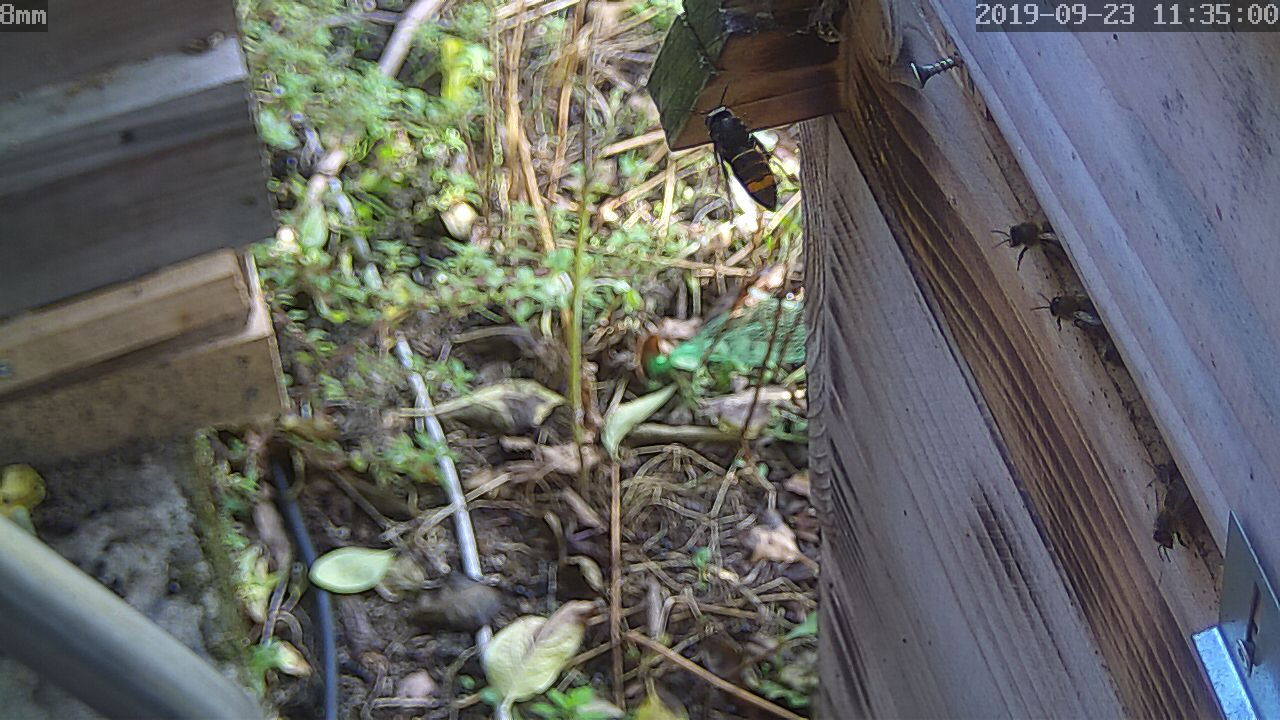bee: (1035, 281, 1125, 359), (1146, 469, 1202, 550), (1004, 217, 1063, 261)
hornet: (686, 103, 803, 217)
